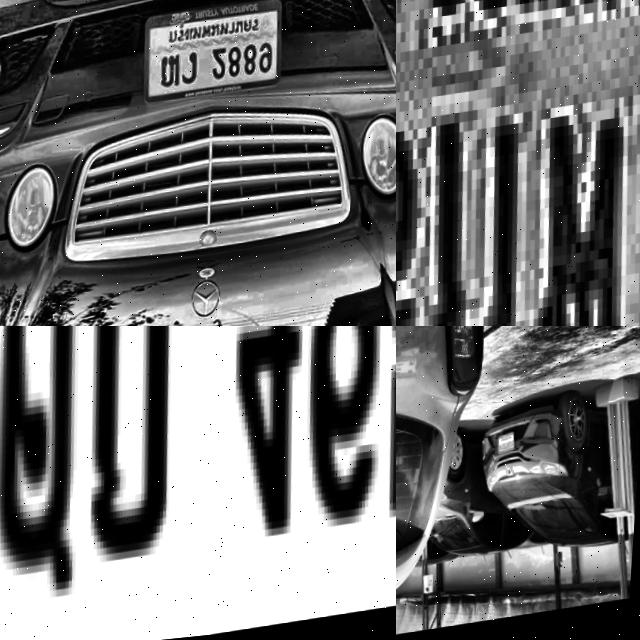license-plate: (0, 326, 396, 640), (396, 0, 640, 326), (140, 2, 290, 114), (505, 439, 523, 467)
